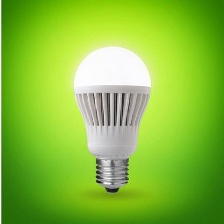light_bulb: (71, 42, 153, 200)
